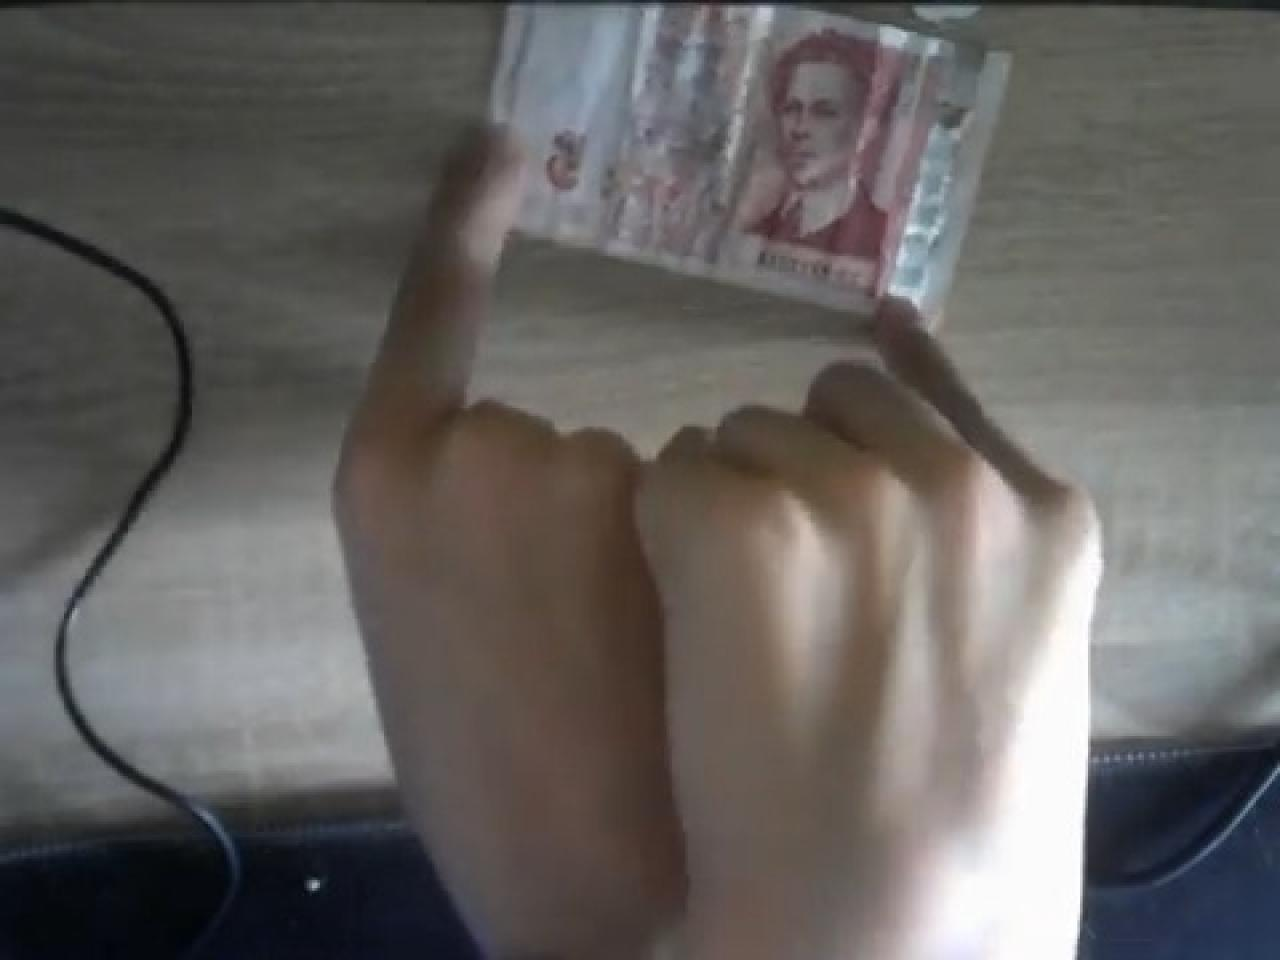5leva: (499, 0, 1008, 318)
